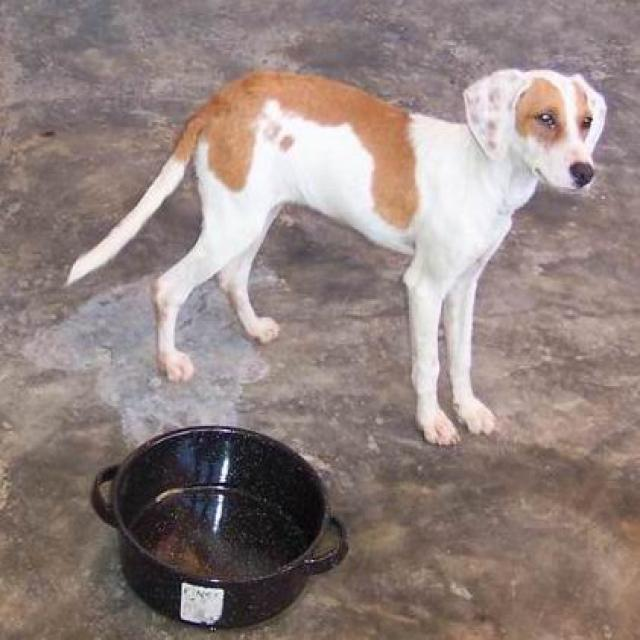Dogs: (64, 64, 608, 446)
